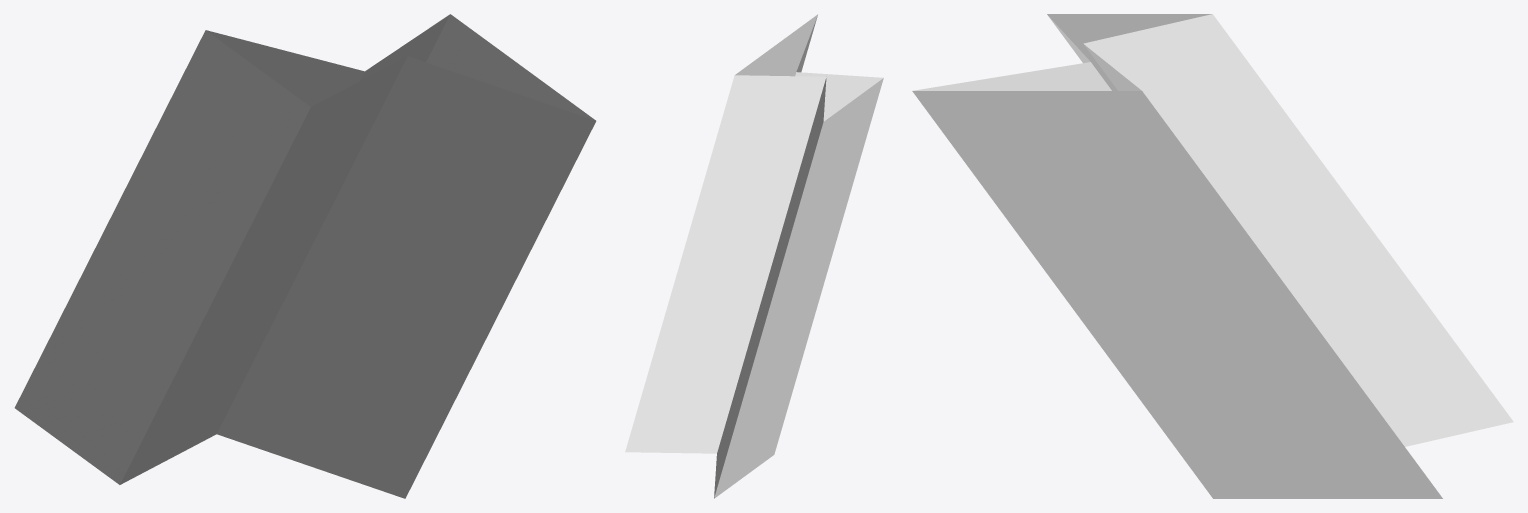
The model's file is Light Sorce 2.FBX.
3 renders of one model, left to right at view 1: azimuth 30°, elevation 25°; view 2: azimuth 150°, elevation 25°; view 3: azimuth 270°, elevation 25°, orthographic. The views are drawn at different scales.
Visible parts, largest first — view 1: Light Sorce 2; view 2: Light Sorce 2; view 3: Light Sorce 2.
Boxes of the visible parts, left/top/right/bottom form: Light Sorce 2: left=14, top=14, right=596, bottom=498; Light Sorce 2: left=625, top=14, right=883, bottom=498; Light Sorce 2: left=912, top=14, right=1513, bottom=498.
Size of the model in its own units: 55.58 by 138 by 184.
